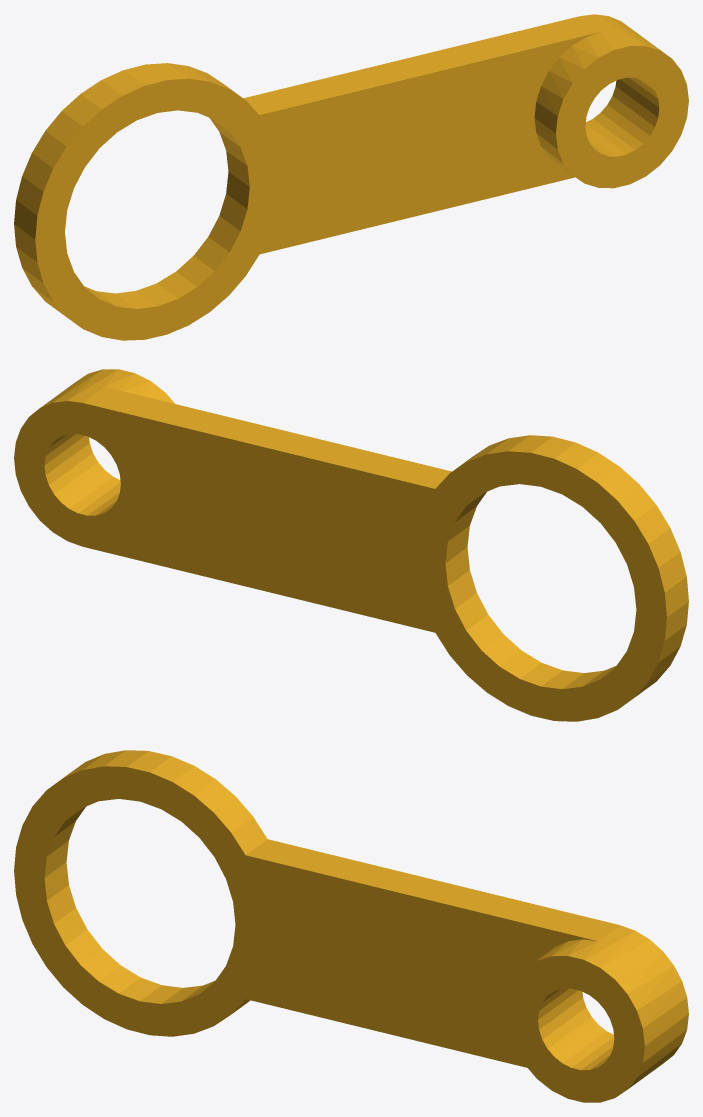
File: TDJ-25-P-50004-ARM-A.glb
3 renders of one model, top to bottom at view 1: azimuth 30°, elevation 25°; view 2: azimuth 150°, elevation 25°; view 3: azimuth 330°, elevation 25°, orthographic. The views are drawn at different scales.
Bounding box in the file's own units: 54.29 × 20.89 × 6.35.
